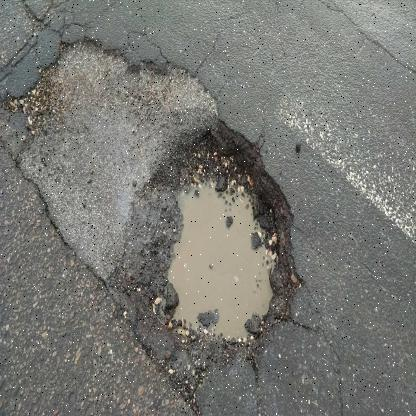pothole: (9, 17, 216, 284)
pothole_water: (129, 105, 316, 382)
